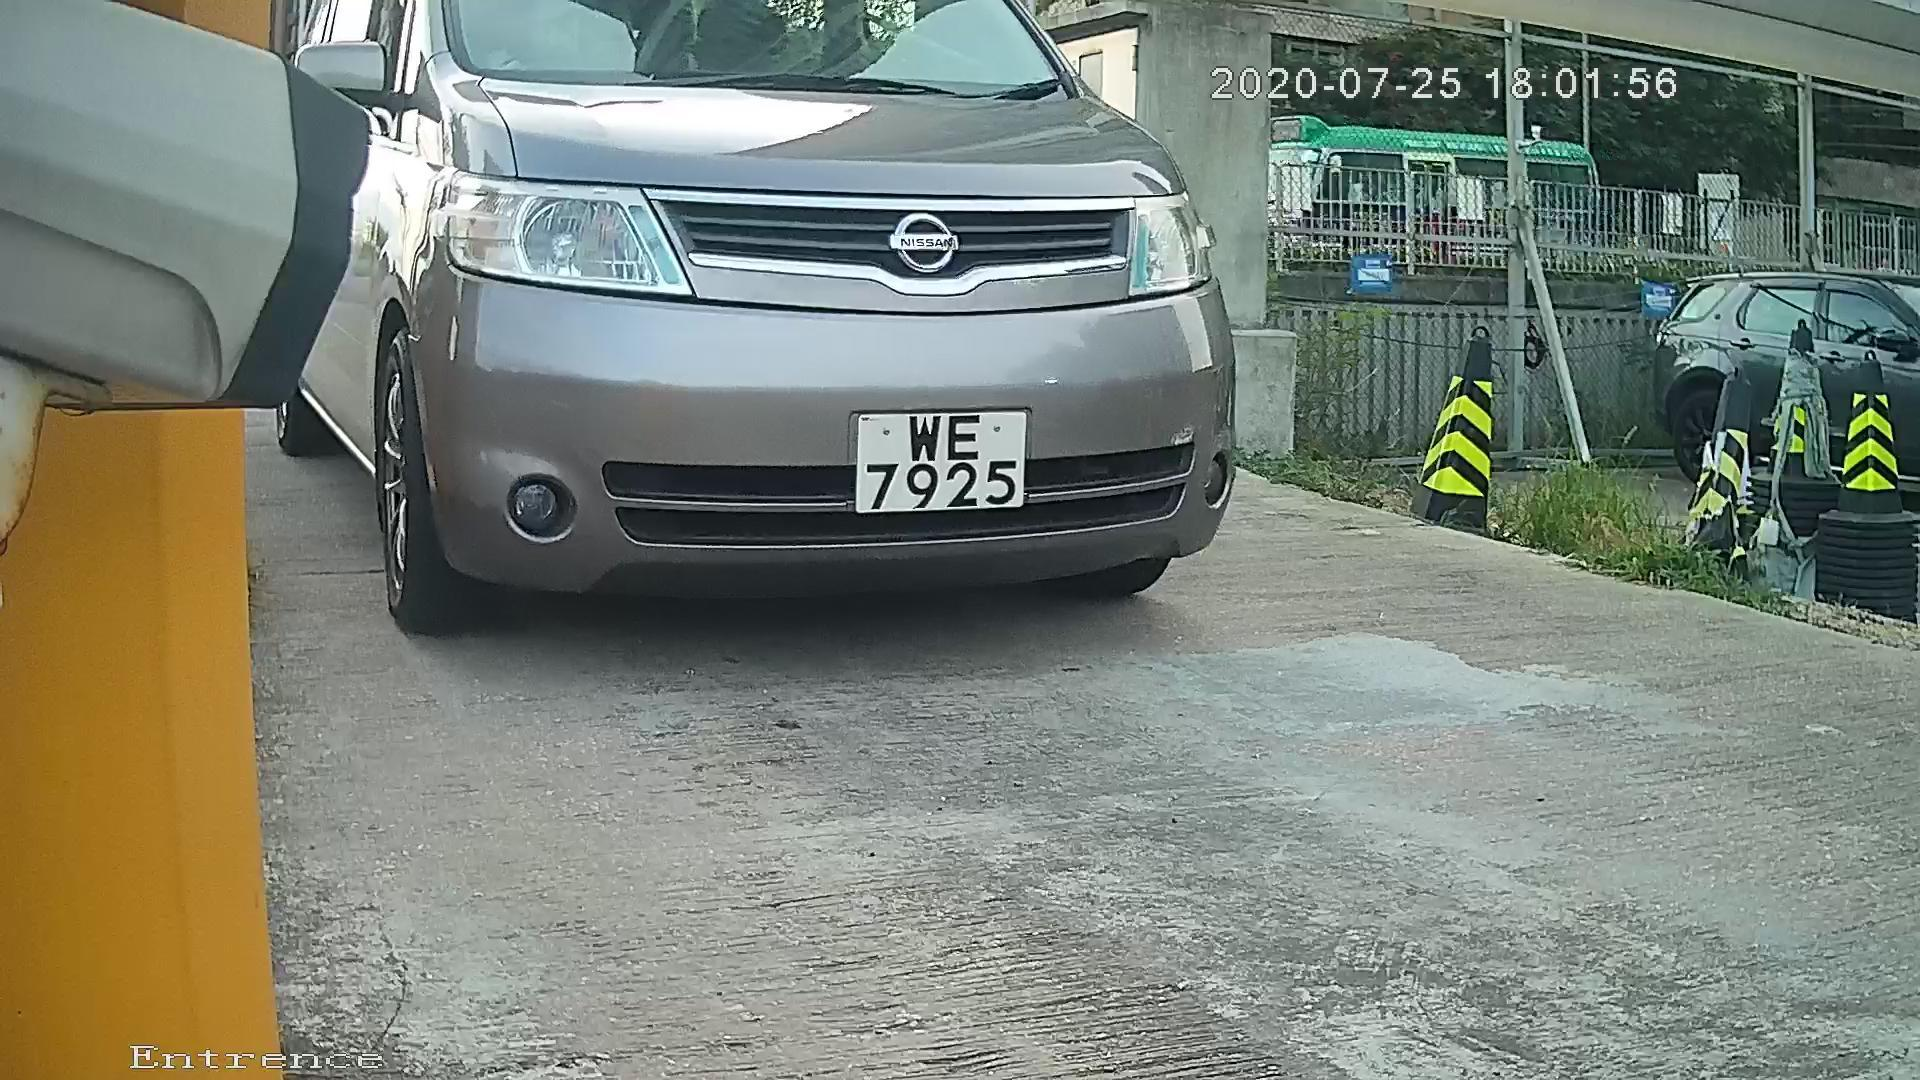privatecar: (251, 3, 1283, 646)
